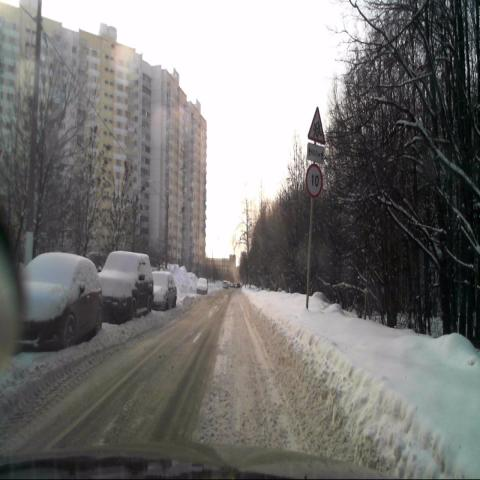8_2_1: (308, 141, 324, 164)
